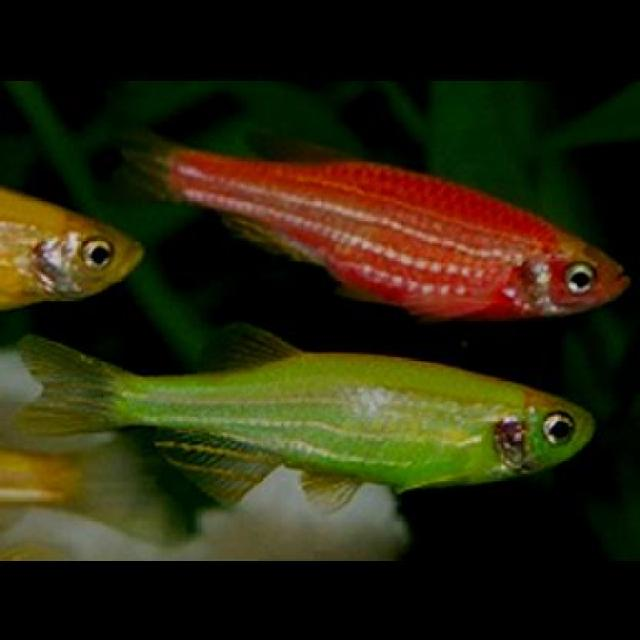ZebraFish: (100, 93, 638, 330), (26, 334, 602, 514)
